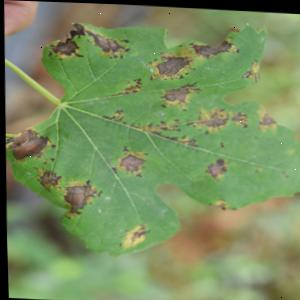Folha: (0, 9, 300, 265)
Fungo: (42, 16, 243, 110), (3, 125, 103, 219), (146, 33, 240, 82), (30, 166, 102, 219), (44, 20, 130, 63), (3, 126, 50, 162), (59, 177, 101, 216), (82, 25, 130, 58), (185, 103, 229, 134), (157, 78, 202, 108), (145, 53, 195, 80), (108, 144, 148, 176), (188, 36, 239, 58), (46, 33, 83, 61), (117, 220, 149, 250), (107, 75, 143, 98), (31, 165, 61, 192), (202, 155, 228, 180), (255, 106, 276, 129), (240, 56, 260, 79), (100, 107, 125, 122), (229, 109, 248, 126), (67, 21, 85, 38), (206, 195, 227, 208)
